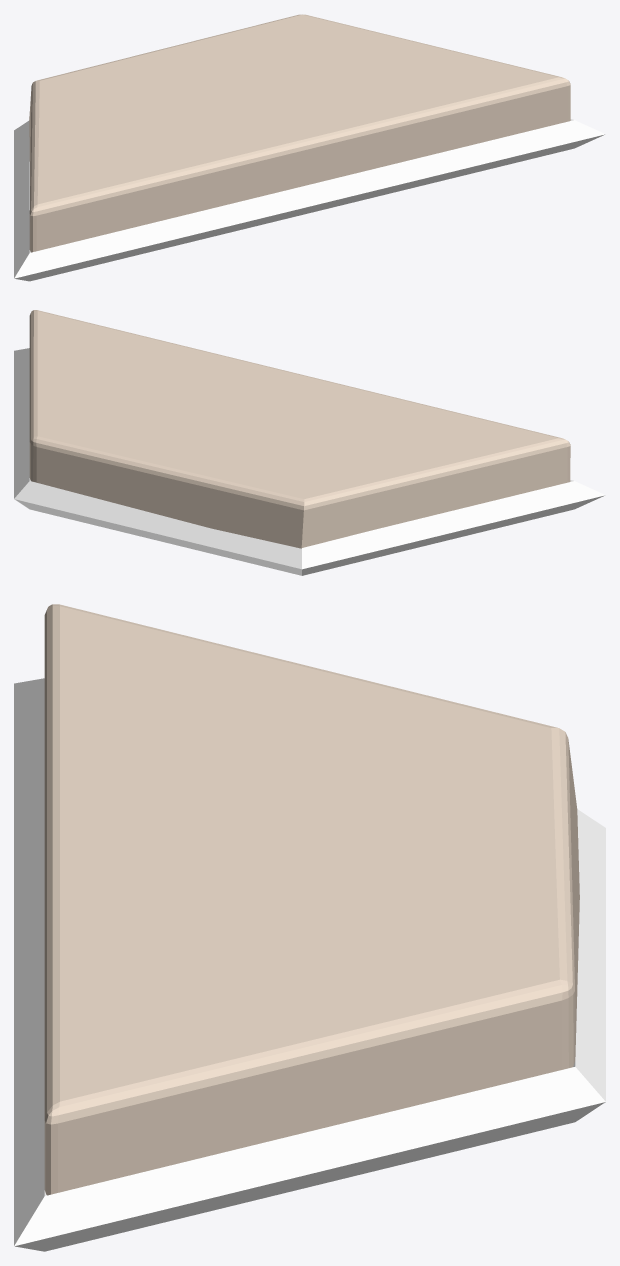
File: pieceTW.glb
3 renders of one model, top to bottom at view 1: azimuth 30°, elevation 25°; view 2: azimuth 150°, elevation 25°; view 3: azimuth 270°, elevation 25°, orthographic. The views are drawn at different scales.
Visible parts, largest first — view 1: MeshTW, OutlineTW; view 2: MeshTW, OutlineTW; view 3: MeshTW, OutlineTW.
Part boxes in pixels (<box>): MeshTW: <box>29,14,570,252</box>; OutlineTW: <box>14,119,605,281</box>; MeshTW: <box>29,310,570,548</box>; OutlineTW: <box>14,348,605,575</box>; MeshTW: <box>44,604,579,1195</box>; OutlineTW: <box>14,678,605,1251</box>.
Size of what is drawn, in the model's own units: 2.17 by 0.25 by 0.966.
